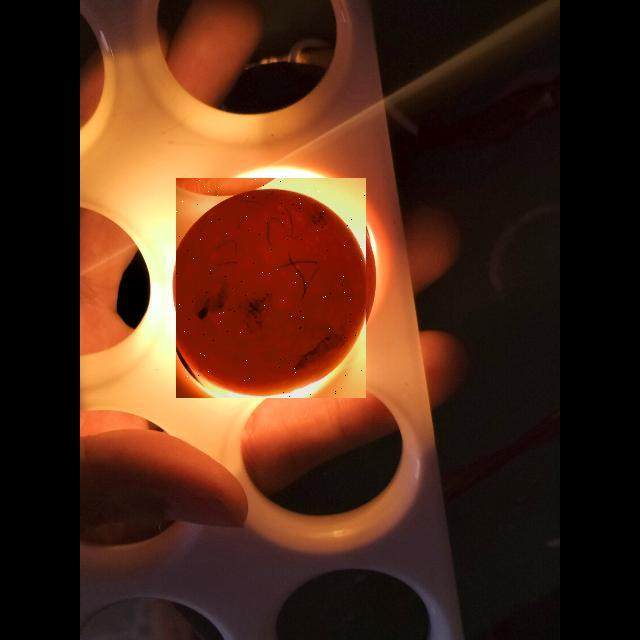Infertile: (176, 178, 366, 398)
